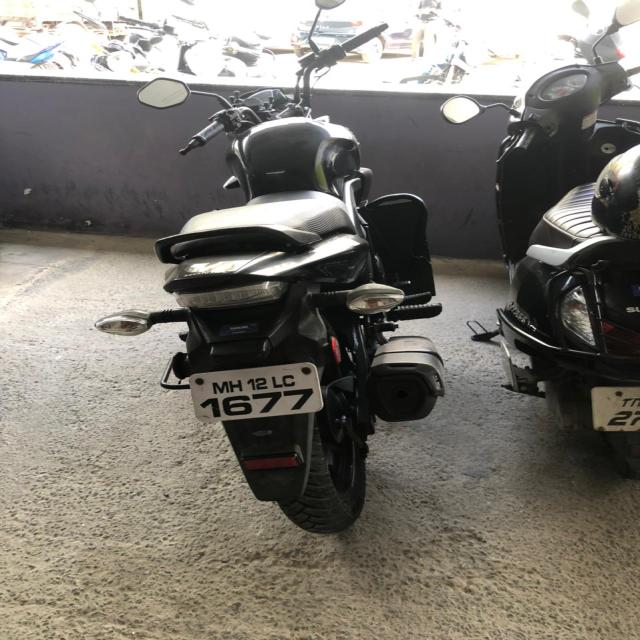number plate: (187, 361, 324, 423)
